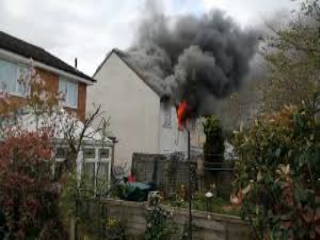fire: (173, 104, 190, 129)
smoke: (127, 13, 259, 94)
